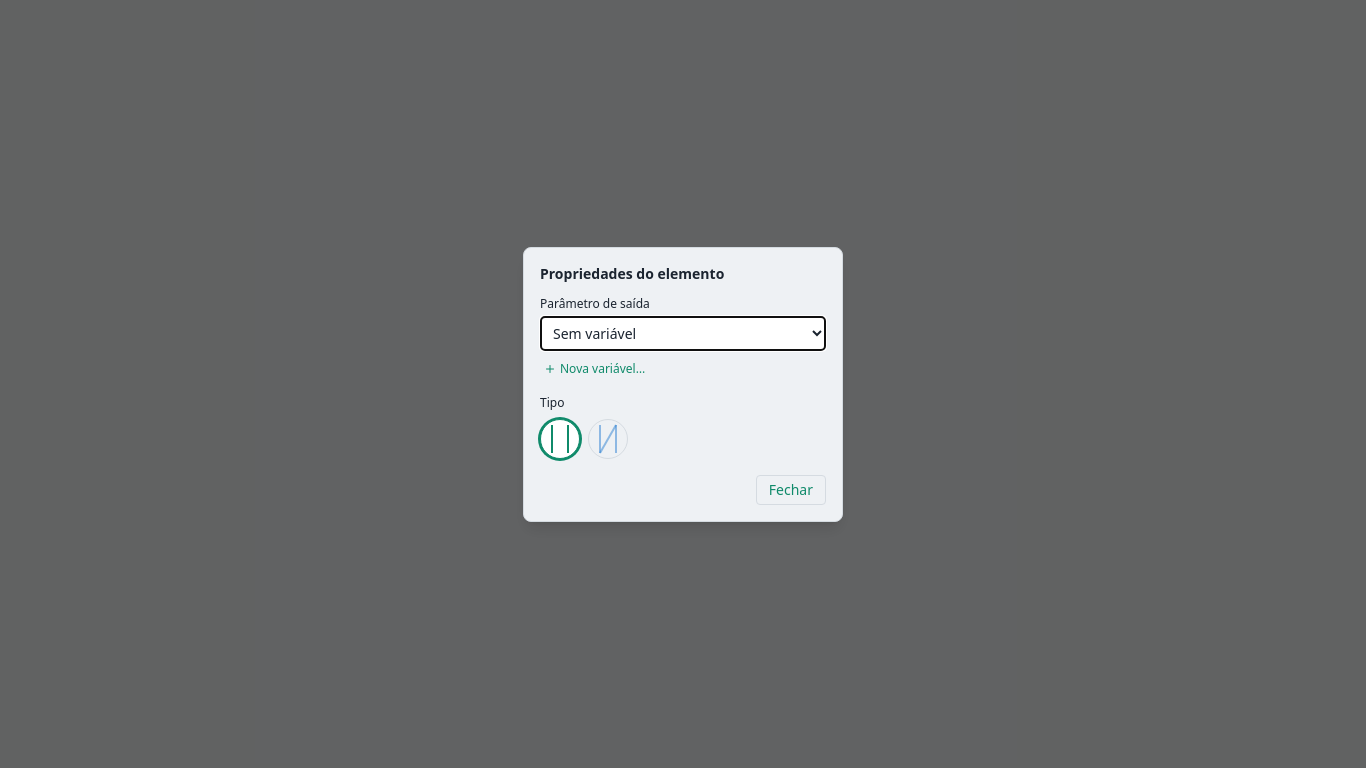
Test case: ModalVariavel — nova variável (revisão 2026-09-23) › recusa do núcleo aparece no modal de criação, que continua aberto
This screenshot has width=1366, height=768.
Click the button "Nova variável…" at (595, 368), box x1=540 y1=358 x2=649 y2=378
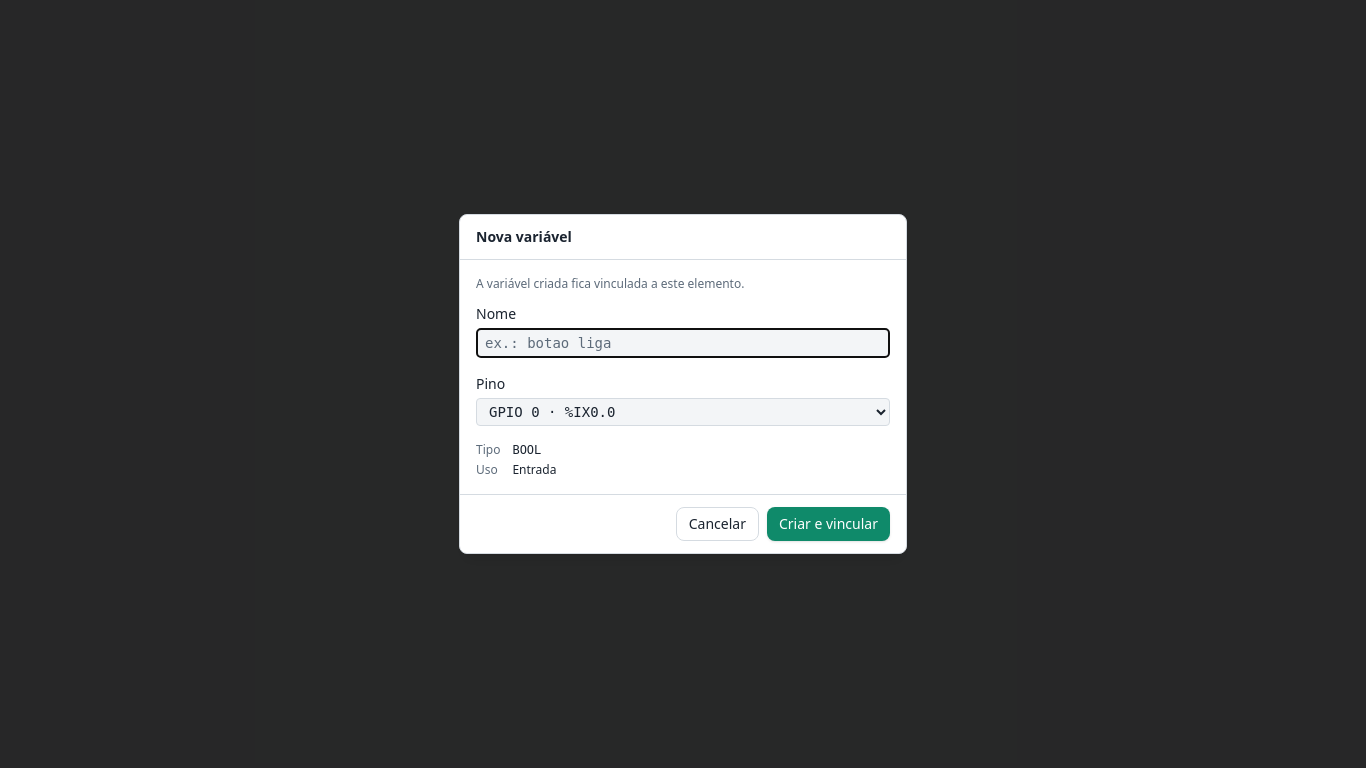
Type "1x" into the field labelled "Nome" at (683, 343), box x1=476 y1=328 x2=890 y2=358
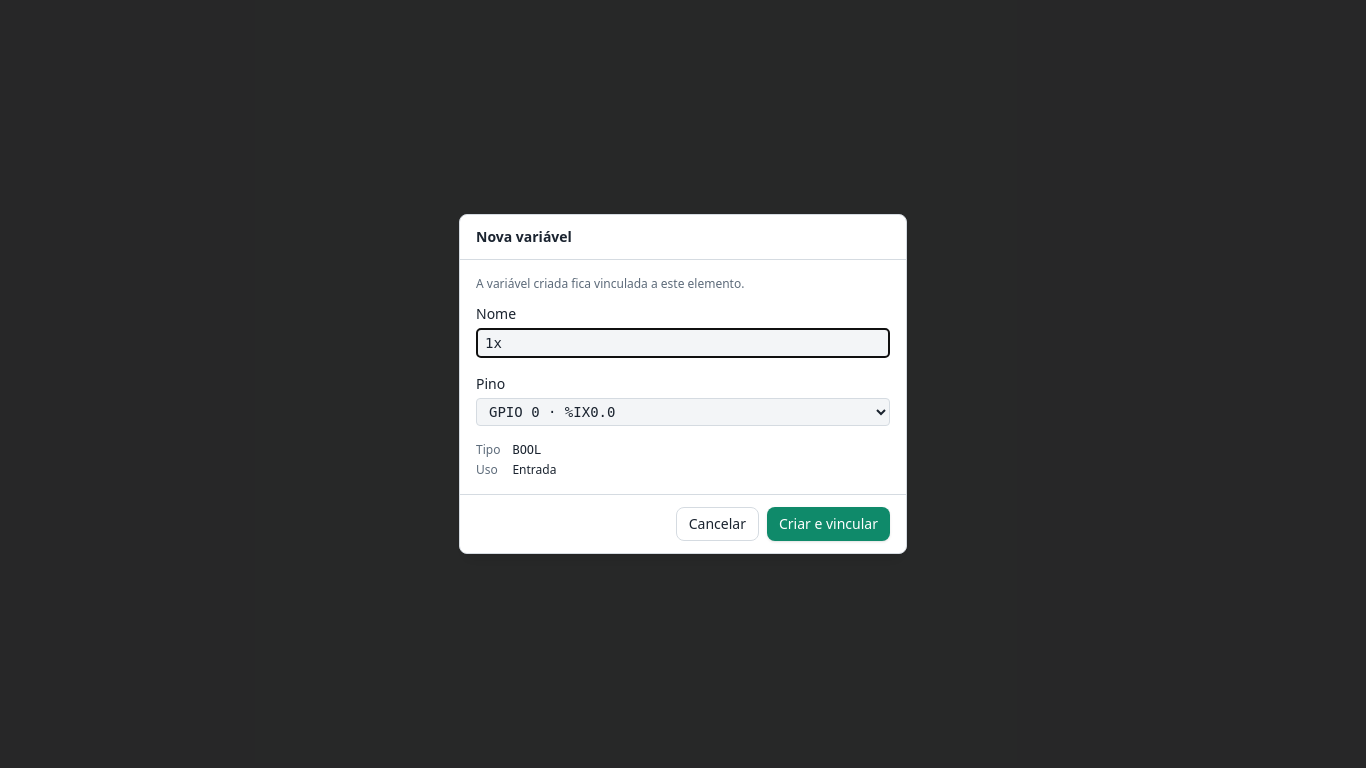
Click the button "Criar e vincular" at (828, 524), box x1=767 y1=507 x2=890 y2=541
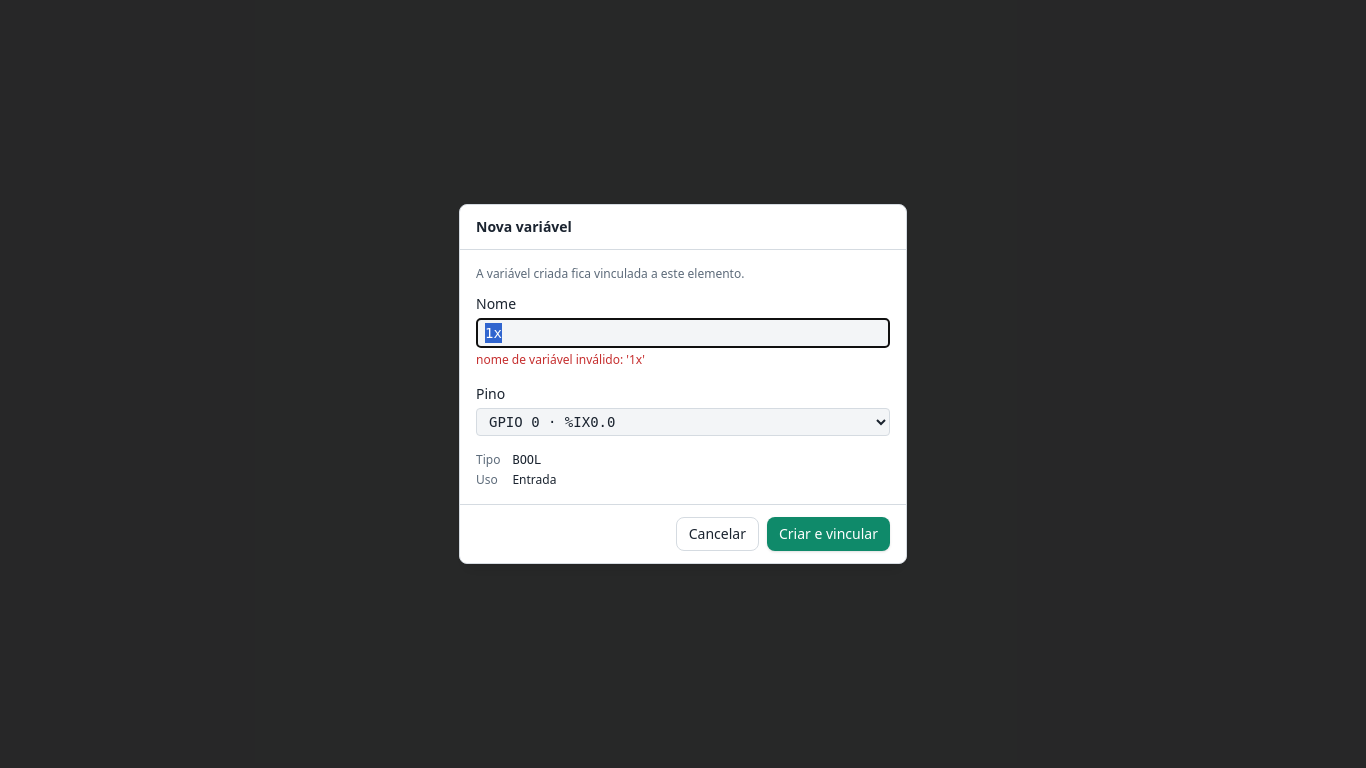
expect the text "nome de variável inválido: '1x'" is shown: met, box x1=476 y1=351 x2=645 y2=368
